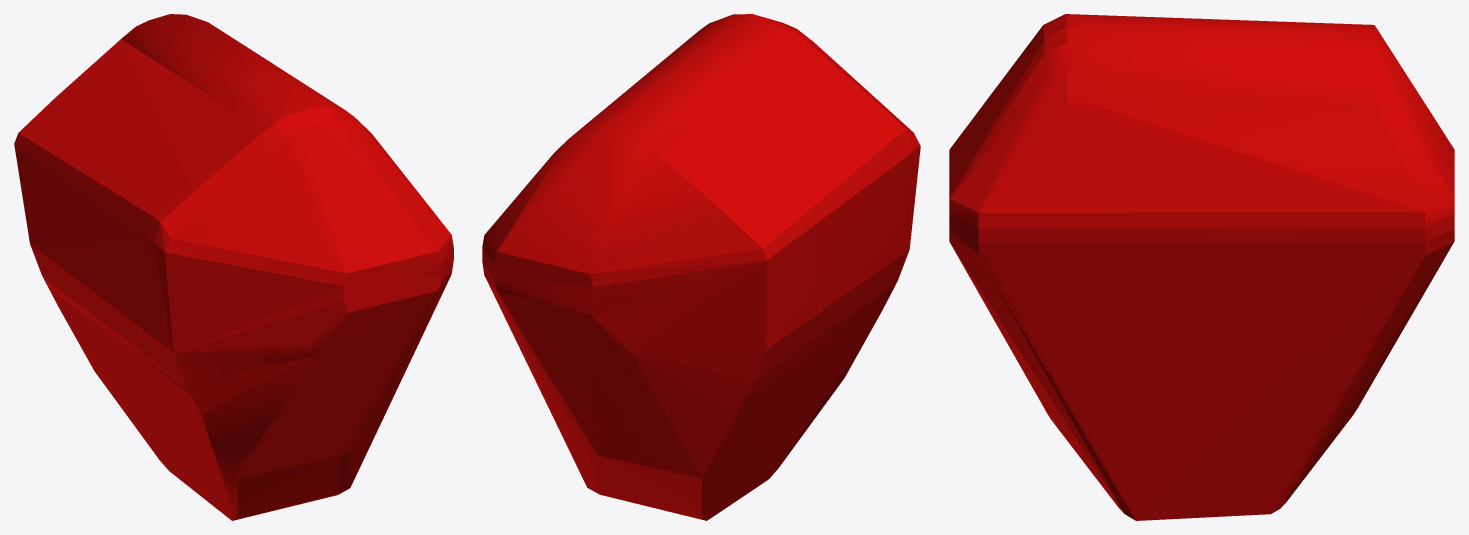
Rendered from gimbal_collision.dae.
3 views of the same model, side by side, from view 1: azimuth 30°, elevation 25°; view 2: azimuth 150°, elevation 25°; view 3: azimuth 270°, elevation 25° (orthographic). The views are drawn at different scales.
Visible parts, largest first — view 1: gimbal_collision; view 2: gimbal_collision; view 3: gimbal_collision.
Boxes of the visible parts, box(x1,y1,x2,y2) form: gimbal_collision: box(14, 14, 453, 520); gimbal_collision: box(482, 14, 920, 520); gimbal_collision: box(949, 14, 1454, 520).
Bounding box in the file's own units: 0.1119 × 0.1728 × 0.1742.
